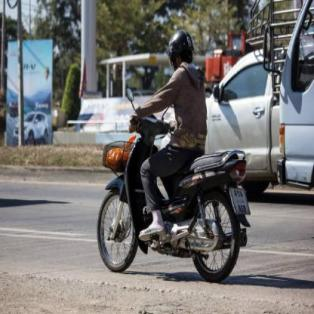Motocicleta: (95, 97, 245, 287)
